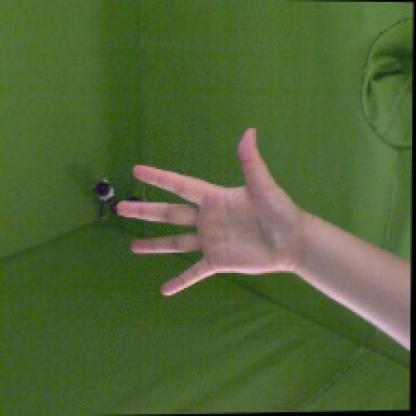Hand: (115, 127, 307, 296)
